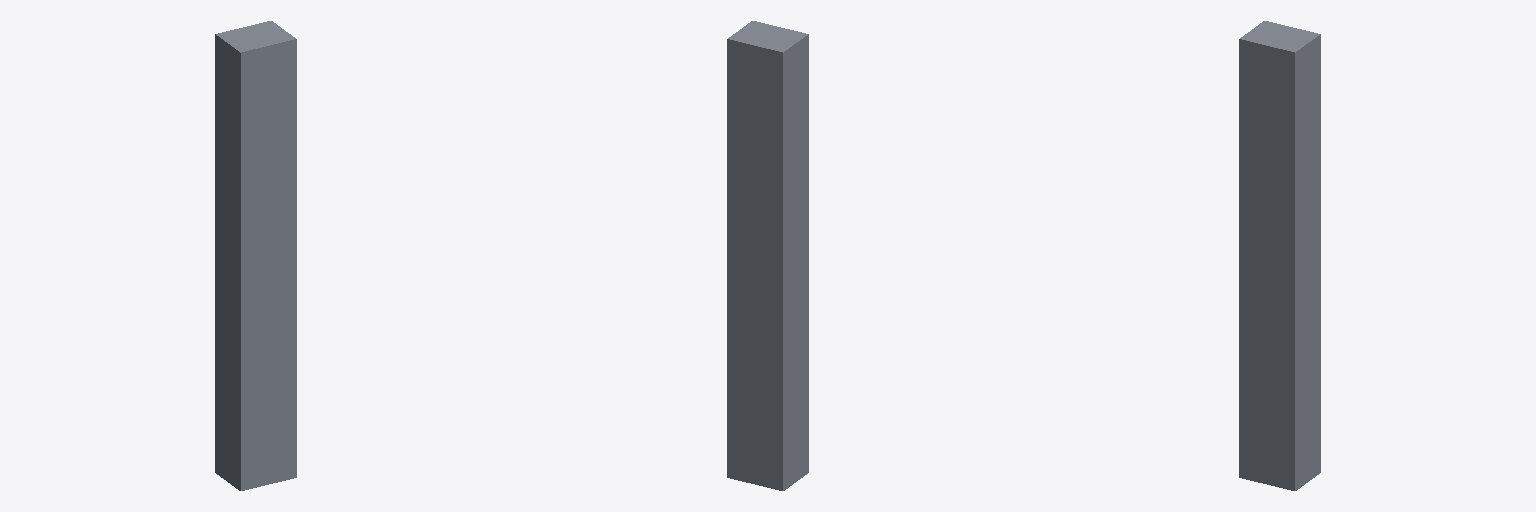
robot.urdf — artmanip_knife_000:
<?xml version='1.0' encoding='utf-8'?>
<robot name="artmanip_knife_000"><link name="link_0"><inertial><mass value="0.03524271497604531" /><inertia ixx="5.115360036768967e-05" iyy="5.150669807384962e-05" izz="1.4530948570168418e-06" ixy="0" ixz="0" iyz="0" /></inertial><visual><geometry><box size="0.017535694521729463 0.013684745545818357 0.1312643097008578" /></geometry><material name="link_0_color"><color rgba=".58 .60 .64 1" /></material></visual><collision><geometry><box size="0.017535694521729463 0.013684745545818357 0.1312643097008578" /></geometry></collision></link><link name="link_1"><inertial><mass value="0.006" /><inertia ixx="4.545e-07" iyy="5e-07" izz="5.4500000000000005e-08" ixy="0" ixz="0" iyz="0" /></inertial><visual><geometry><mesh filename="slider-shoulder.obj" scale="1 1.0 1" /></geometry><material name="link_1_color"><color rgba=".12 .13 .15 1" /></material></visual><collision><geometry><mesh filename="slider-shoulder.obj" scale="1 1.0 1" /></geometry></collision></link><joint name="slider" type="prismatic"><parent link="link_0" /><child link="link_1" /><origin xyz="0.0004623930734472127 0.008342372772909178 0.008995989503339519" /><axis xyz="0 0 1" /><limit lower="-0.03267458688196273" upper="0.017325413118037272" effort="100" velocity="1" /><dynamics damping="1000" friction="0.001" /></joint></robot>

--- Render facts (derived) ---
The picture shows the robot from 3 angles, left to right: view 1: azimuth 30°, elevation 25°; view 2: azimuth 150°, elevation 25°; view 3: azimuth 330°, elevation 25°; orthographic projection.
Robot: artmanip_knife_000 — 2 links, 1 joints (1 prismatic); root link link_0; default pose: all joints at 0.
Visible links, largest first — view 1: link_0; view 2: link_0; view 3: link_0.
Link boxes in pixels (bbox=[...]): link_0: bbox=[215, 21, 296, 490]; link_0: bbox=[727, 21, 808, 490]; link_0: bbox=[1239, 21, 1320, 490].
Size in the robot's own frame: 0.0175 by 0.0137 by 0.1313 metres.
Meshes: 1 distinct files referenced, 0 mesh visuals loaded (none loaded); not drawn: 1 (reference not matched to a file when rendering).
